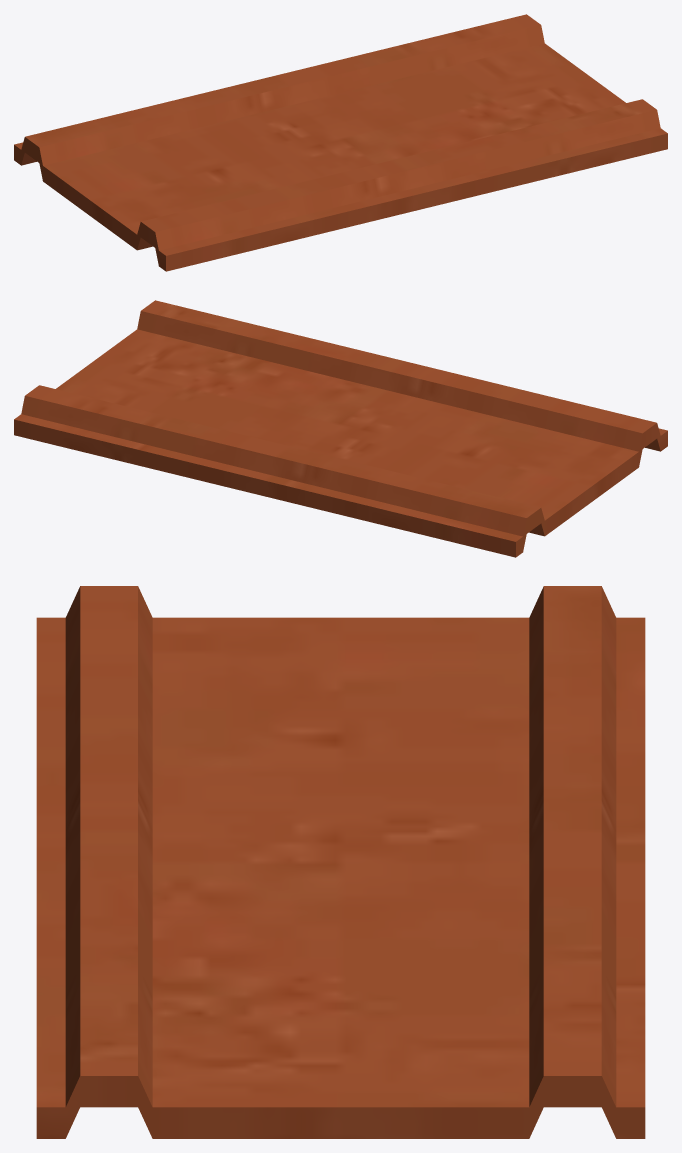
The model's file is COB-CER-004_lod1.glb.
3 renders of one model, top to bottom at view 1: azimuth 30°, elevation 25°; view 2: azimuth 150°, elevation 25°; view 3: azimuth 270°, elevation 25°, orthographic. The views are drawn at different scales.
Visible parts, largest first — view 1: COB-CER-004_telha; view 2: COB-CER-004_telha; view 3: COB-CER-004_telha.
Part boxes in pixels (box(x1,y1,x2,y2)): COB-CER-004_telha: box(14, 14, 667, 271); COB-CER-004_telha: box(14, 300, 667, 557); COB-CER-004_telha: box(36, 586, 645, 1138).
Bounding box in the file's own units: 0.4 × 0.024 × 0.21.
1 material, 1 textured.
